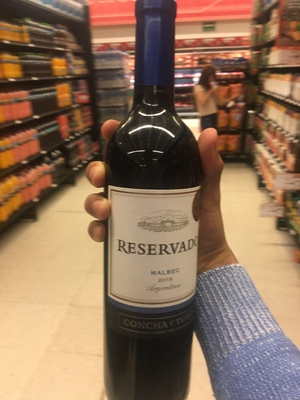reservado malbec: (96, 12, 214, 400)
